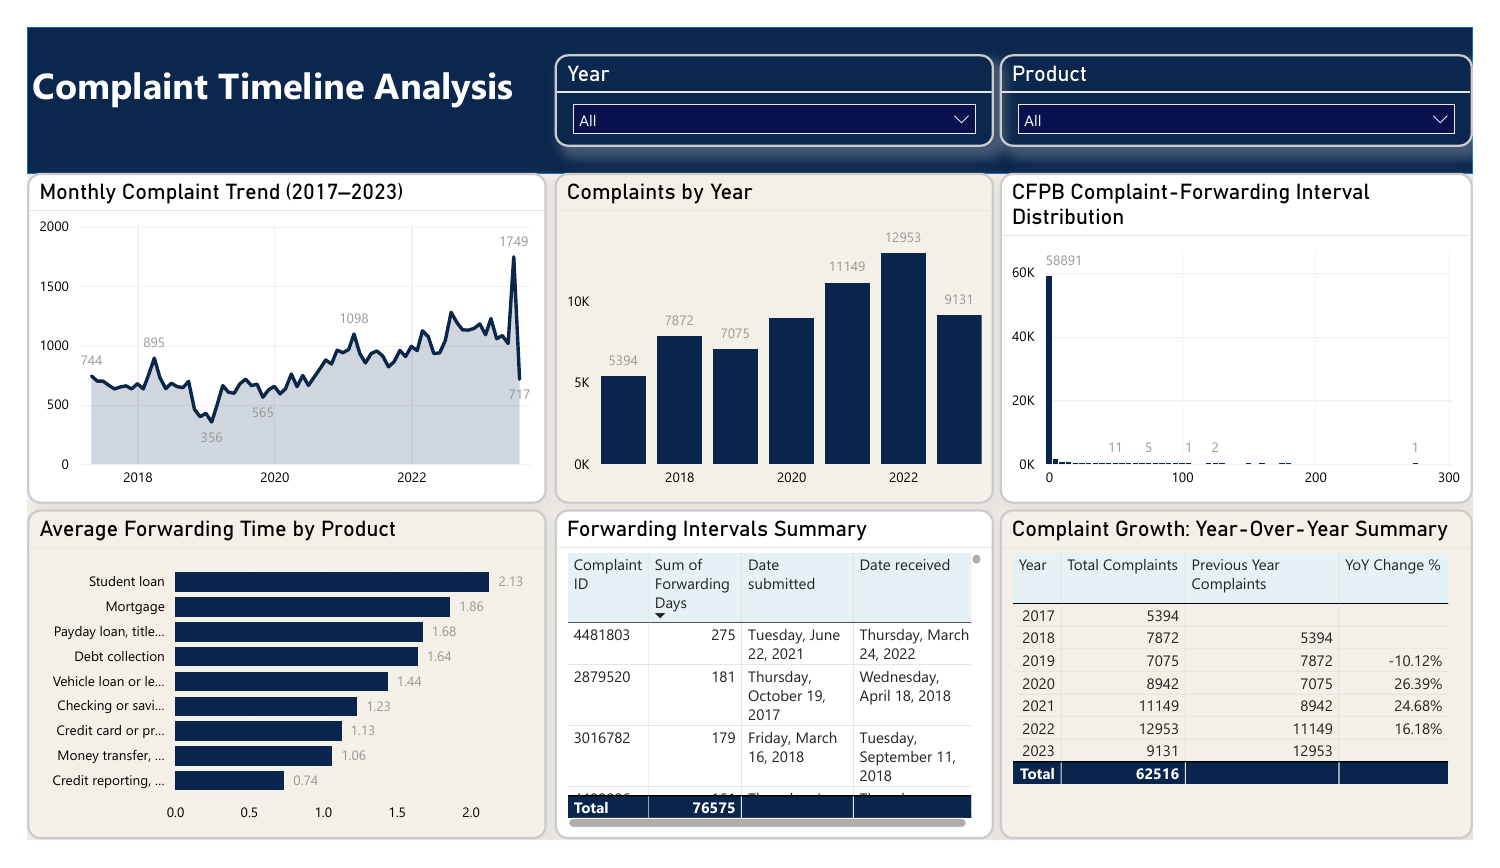

The dashboard page shown, as its layout file describes it:
{"tool":"powerbi","page":{"name":"Complaint Timeline Analysis","canvas":[1280,720],"ordinal":3},"visuals":[{"type":"shape","box":[0,0,1280,129.9],"z":0},{"type":"lineChart","title":"Monthly Complaint Trend (2017–2023)","fields":{"Category":["Complaints.Month Start"],"Y":["Complaints.Total Complaints"]},"box":[0,129.4,459.7,292.2],"z":1000},{"type":"columnChart","title":"Complaints by Year","fields":{"Category":["Complaints.Year"],"Y":["Complaints.Total Complaints"]},"box":[466.5,129.4,389.6,292.2],"z":2000},{"type":"clusteredColumnChart","title":"CFPB Complaint-Forwarding Interval Distribution","fields":{"Category":["Complaints.Forwarding Days (bins)"],"Y":["Complaints.Total Complaints"]},"box":[861.3,129.4,418.7,292.2],"z":3000},{"type":"clusteredBarChart","title":"Average Forwarding Time by Product","fields":{"Category":["Complaints.Product"],"Y":["Complaints.Average Forwarding Days"]},"box":[0,426.7,459.7,292.2],"z":4000},{"type":"tableEx","title":"Forwarding Intervals Summary","fields":{"Values":["Complaints.Complaint ID","Sum(Complaints.Forwarding Days)","Complaints.Date submitted","Complaints.Date received"]},"box":[466.5,426.7,389.6,292.2],"z":5000},{"type":"tableEx","title":"Complaint Growth: Year-Over-Year Summary","fields":{"Values":["Complaints.Year","Complaints.Total Complaints","Complaints.Previous Year Complaints","Complaints.YoY Change %"]},"box":[861.3,426.7,418.7,292.2],"z":6000},{"type":"textbox","box":[0,23.9,490.5,70.1],"z":7000},{"type":"slicer","title":"Product","fields":{"Values":["Complaints.Product"]},"box":[861.3,23.9,418.7,82],"z":8000},{"type":"slicer","title":"Year","fields":{"Values":["Complaints.Year"]},"box":[466.5,23.9,389.6,82],"z":9000}]}

Visuals, with their boxes in screenshot pixels (x1, y1, x2, y2), scaled from the page's 1280x720 canvas onto the 1500x868 screenshot:
shape: [x1=0, y1=0, x2=1499, y2=157]
"Monthly Complaint Trend (2017–2023)" lineChart: [x1=0, y1=156, x2=539, y2=508]
"Complaints by Year" columnChart: [x1=547, y1=156, x2=1003, y2=508]
"CFPB Complaint-Forwarding Interval Distribution" clusteredColumnChart: [x1=1009, y1=156, x2=1499, y2=508]
"Average Forwarding Time by Product" clusteredBarChart: [x1=0, y1=514, x2=539, y2=867]
"Forwarding Intervals Summary" tableEx: [x1=547, y1=514, x2=1003, y2=867]
"Complaint Growth: Year-Over-Year Summary" tableEx: [x1=1009, y1=514, x2=1499, y2=867]
textbox: [x1=0, y1=29, x2=575, y2=113]
"Product" slicer: [x1=1009, y1=29, x2=1499, y2=128]
"Year" slicer: [x1=547, y1=29, x2=1003, y2=128]
